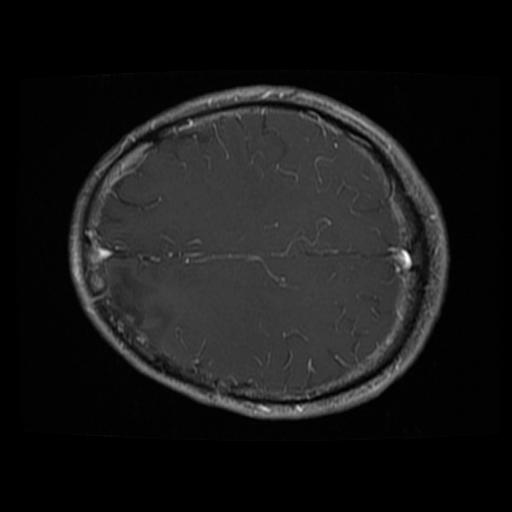glioma: (106, 265, 171, 347)
